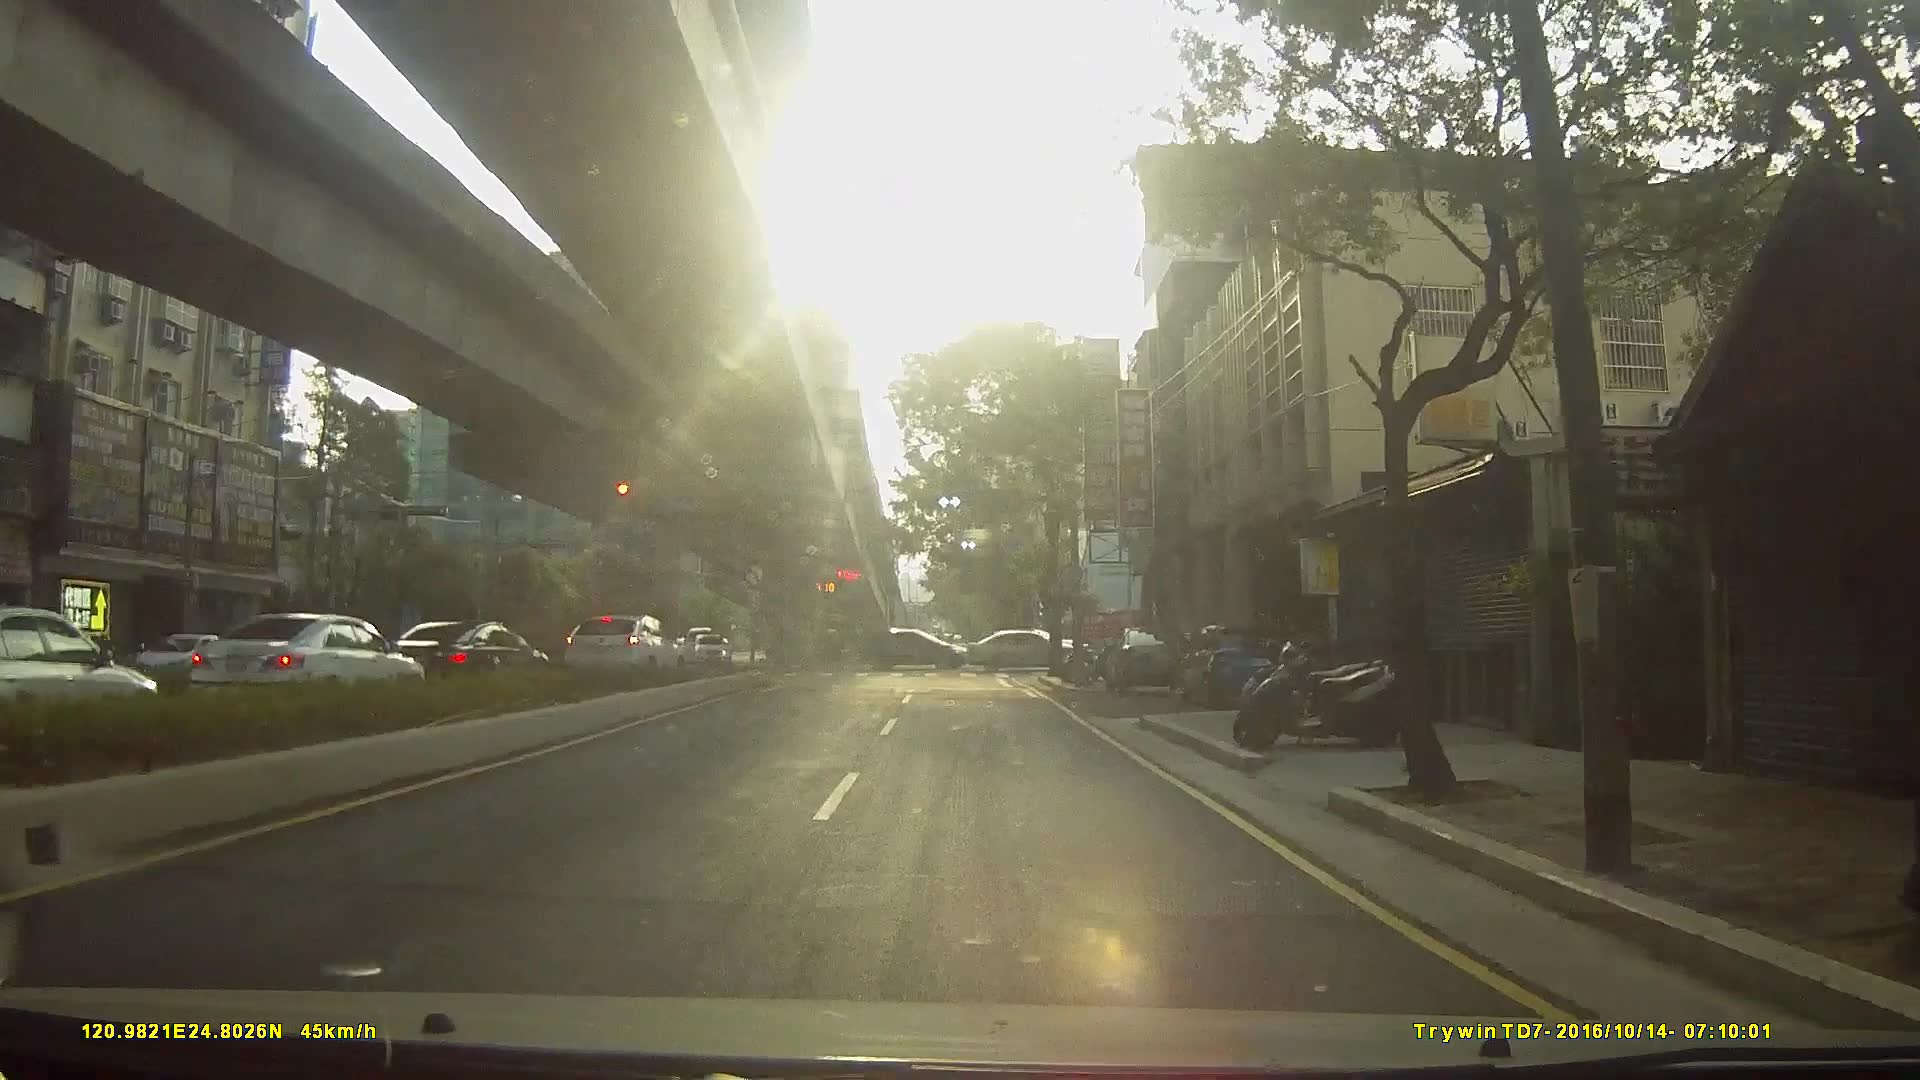vehicle: (169, 609, 415, 708), (1, 611, 164, 745), (376, 617, 546, 690), (1182, 621, 1290, 709), (556, 608, 684, 675), (1102, 620, 1196, 694), (972, 626, 1091, 670), (865, 625, 973, 671), (691, 630, 733, 667)
